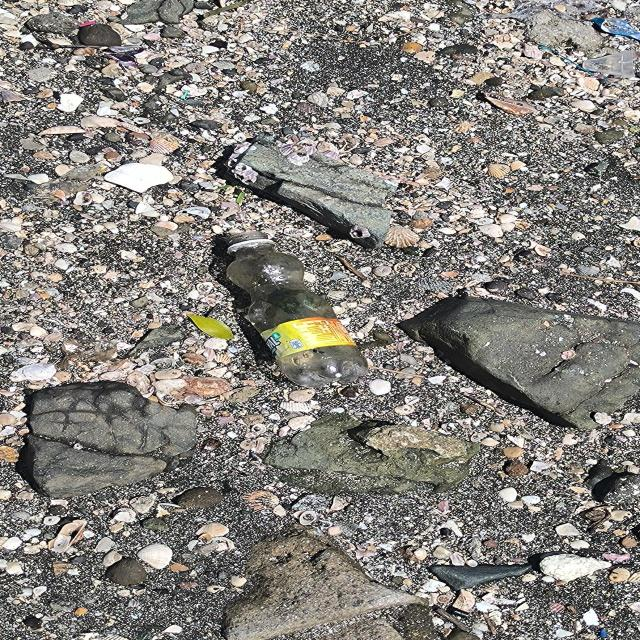litter: (224, 231, 370, 389)
